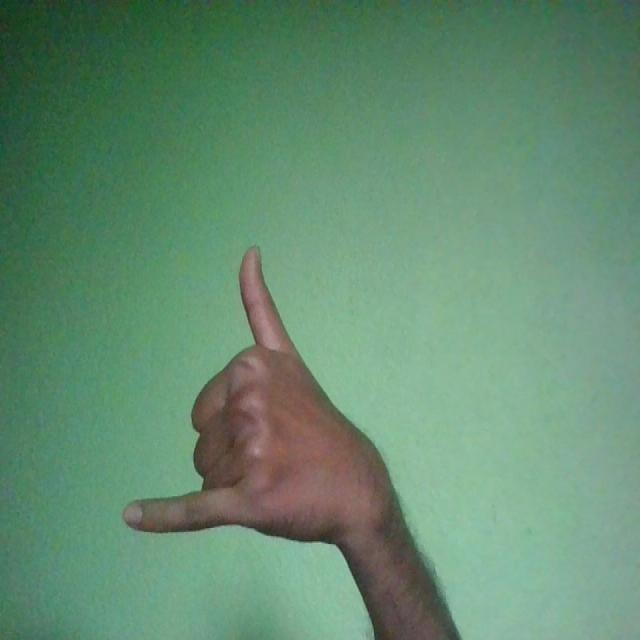Call Me: (122, 243, 403, 546)
